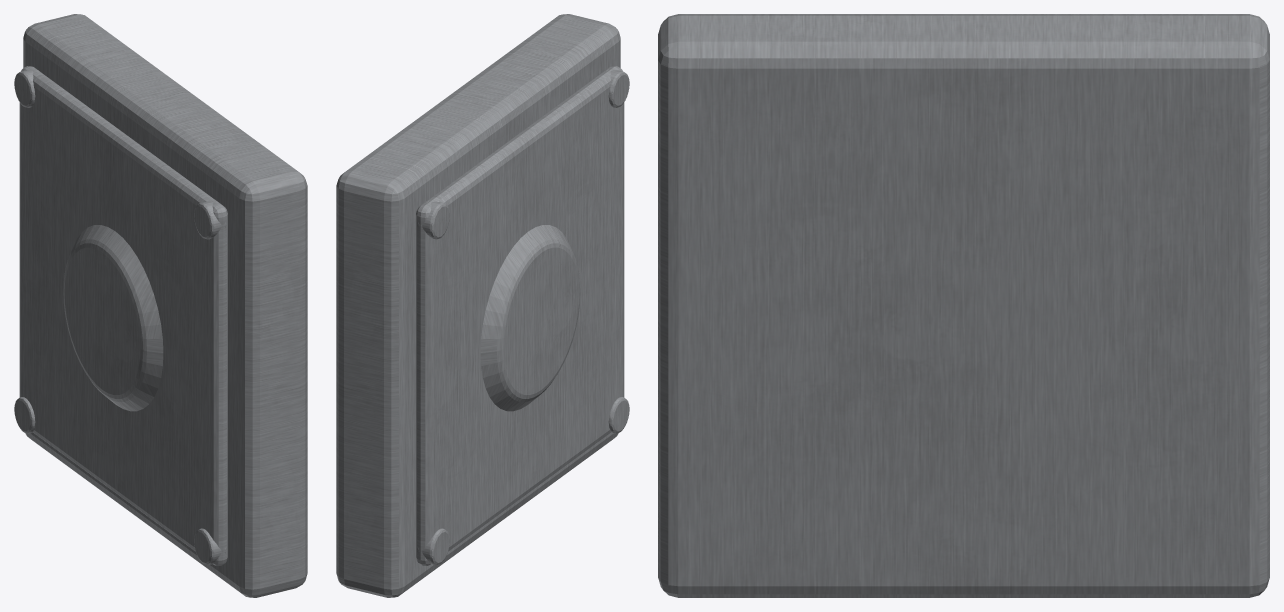
File: switch_plate_vis.obj
3 renders of one model, left to right at view 1: azimuth 30°, elevation 25°; view 2: azimuth 150°, elevation 25°; view 3: azimuth 270°, elevation 25°, orthographic. The views are drawn at different scales.
Bounding box in the file's own units: 0.029 × 0.12 × 0.12.
1 material, 1 textured.
